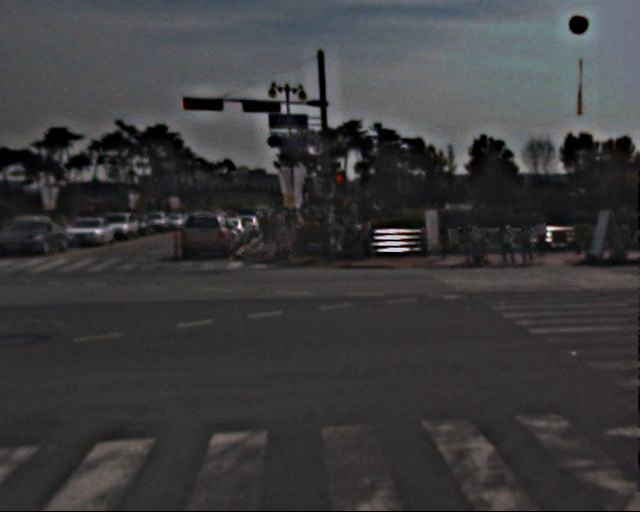person: (255, 212, 304, 243), (319, 209, 341, 262), (361, 211, 382, 261), (439, 215, 460, 265), (464, 216, 484, 265), (521, 218, 540, 265), (537, 213, 556, 260), (501, 225, 518, 266), (619, 215, 635, 255)
